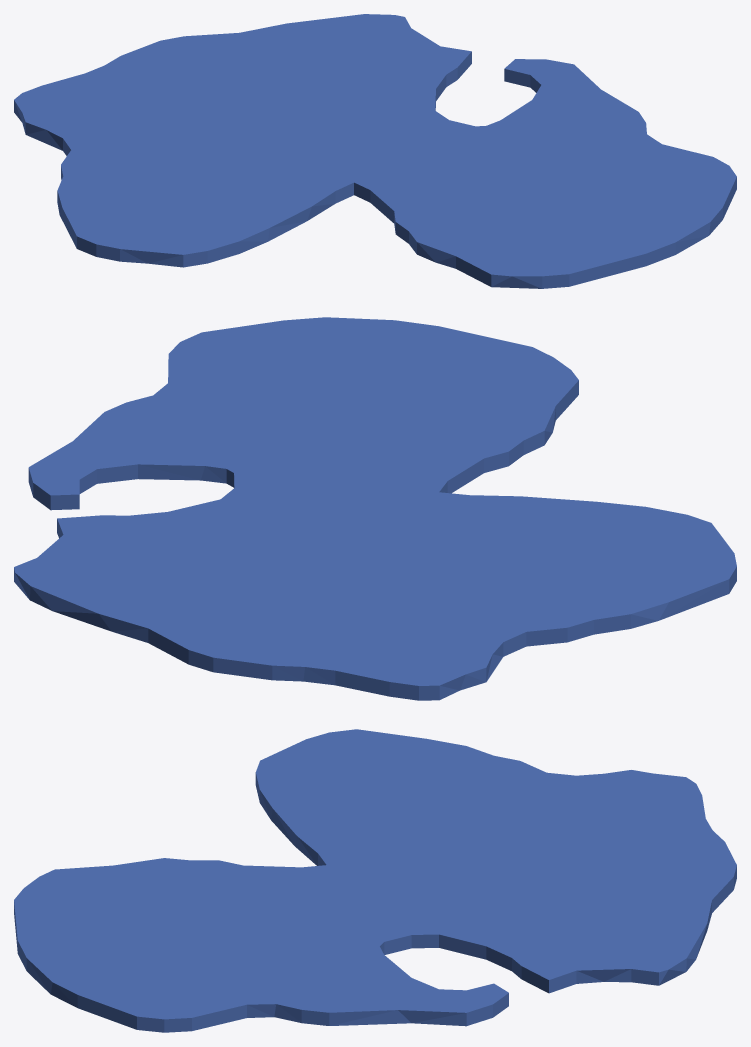
File: SP_Ground02.fbx
3 views of the same model, one above another, from view 1: azimuth 30°, elevation 25°; view 2: azimuth 150°, elevation 25°; view 3: azimuth 270°, elevation 25° (orthographic). The views are drawn at different scales.
Parts seen in each view (by area): view 1: SP_Ground02; view 2: SP_Ground02; view 3: SP_Ground02.
Boxes of the visible parts, <box> form: SP_Ground02: <box>14,14,736,288</box>; SP_Ground02: <box>14,317,736,700</box>; SP_Ground02: <box>14,729,736,1032</box>.
Size of the model in its own units: 900 by 19.33 by 948.
1 material, 1 textured.
